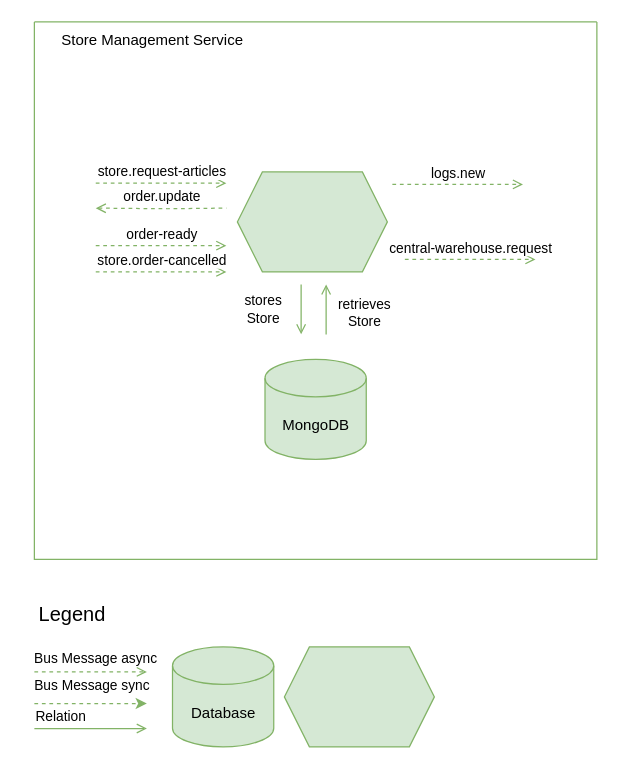
Image size: 619x769. Some labels were removed from this diagram. The centre of each missing label's shape, as x and y in pixels:
Java Application: (x=358, y=696)
Store Managment: (x=311, y=221)
